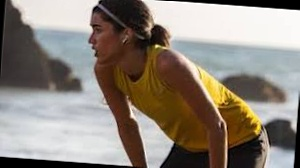earphone: (122, 28, 134, 47)
